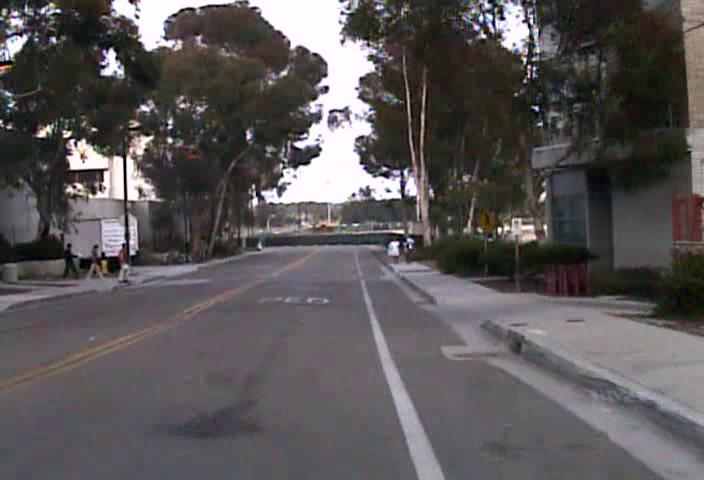pedestrianCrossing: (475, 206, 498, 237)
